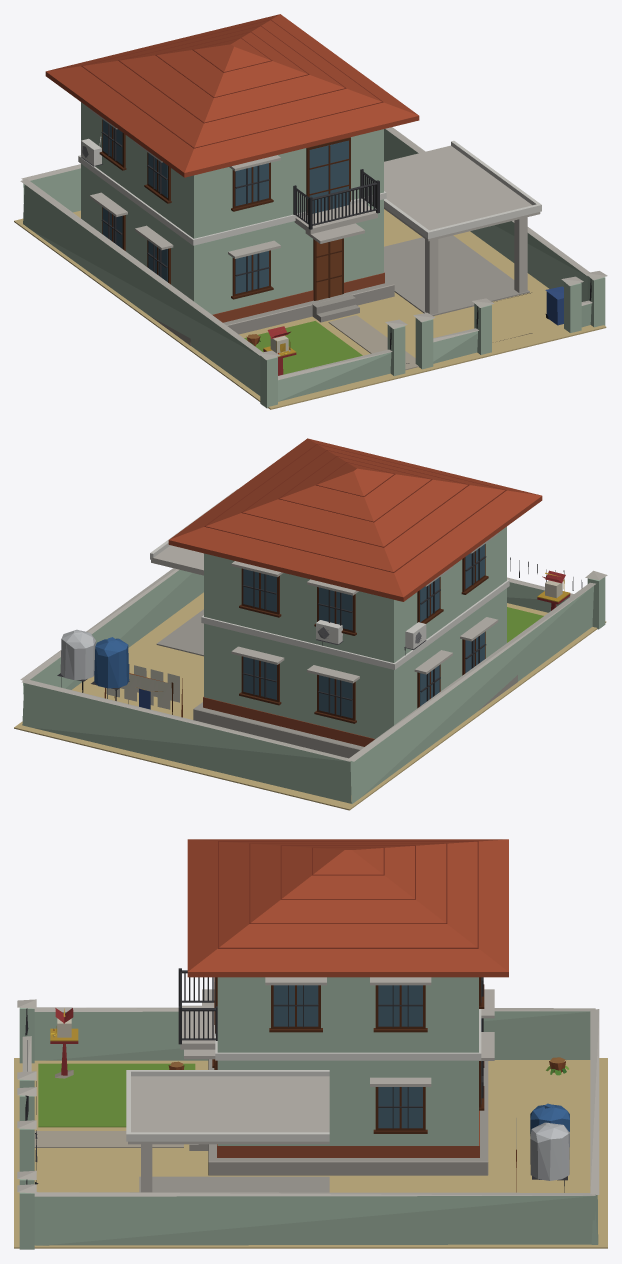
File: house12_2.glb
3 renders of one model, top to bottom at view 1: azimuth 30°, elevation 25°; view 2: azimuth 150°, elevation 25°; view 3: azimuth 270°, elevation 25°, orthographic. The views are drawn at different scales.
Parts seen in each view (by area): view 1: body, windows; view 2: body, windows; view 3: body, windows.
Boxes of the visible parts, <box> form: body: <box>14,14,607,409</box>; windows: <box>103,120,348,293</box>; body: <box>14,438,607,810</box>; windows: <box>243,544,484,718</box>; body: <box>14,839,607,1249</box>; windows: <box>215,977,481,1128</box>.
Size of the model in its own units: 12.51 by 8.25 by 15.9.
